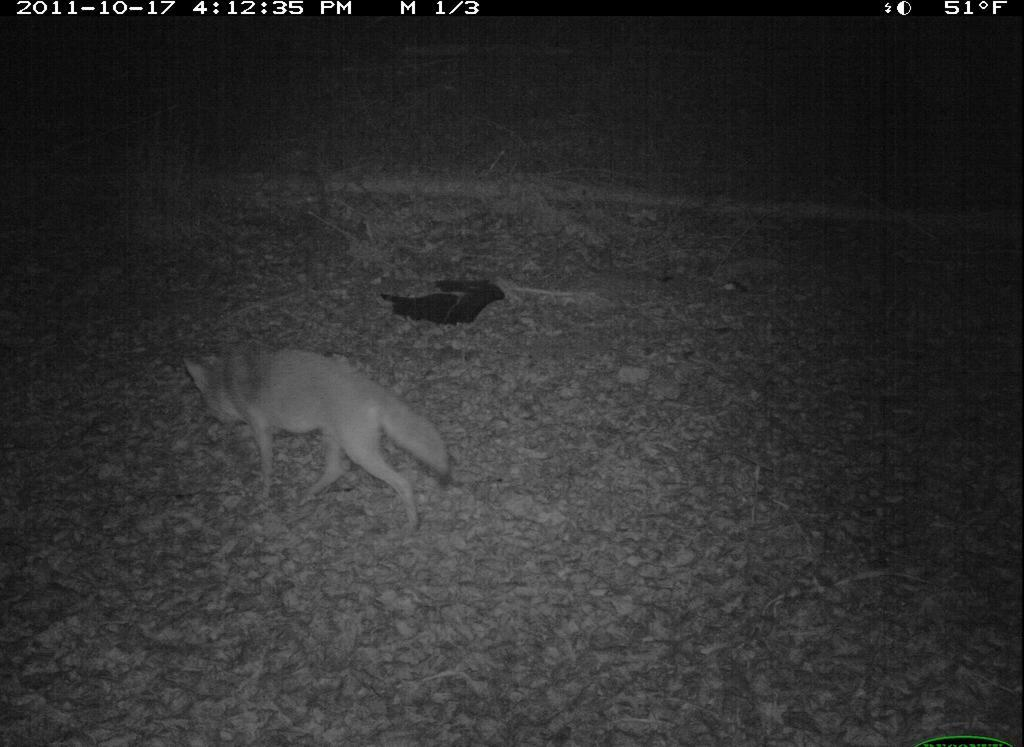coyote: (178, 346, 463, 539)
